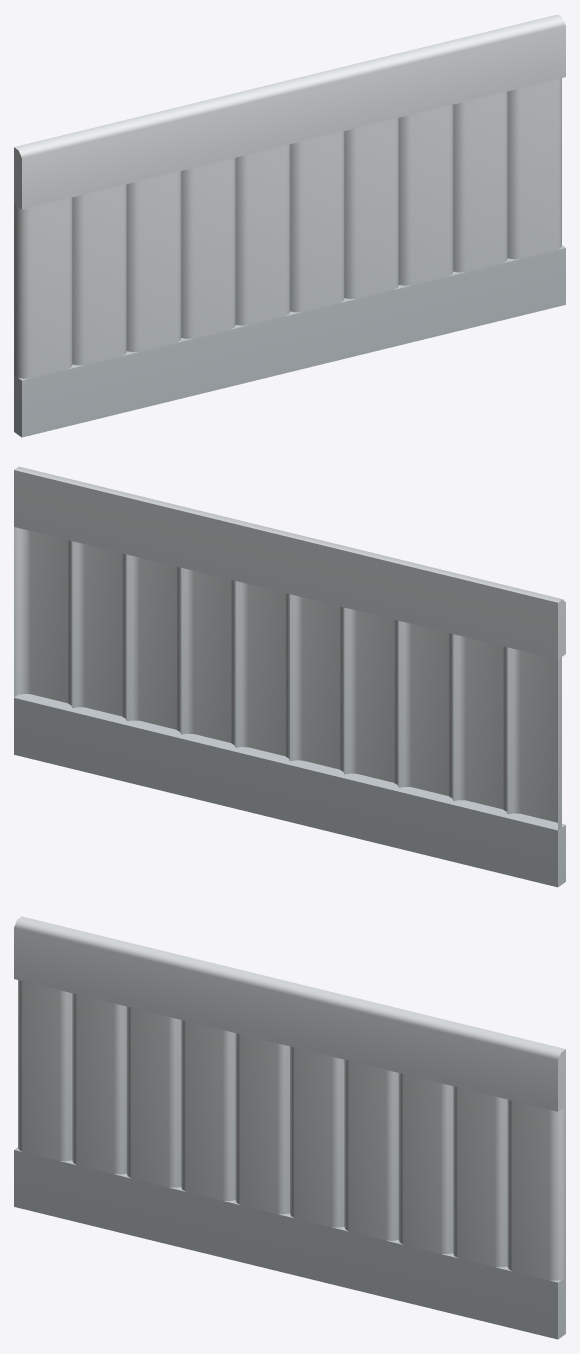
File: Panel_White_02.glb
The picture shows the model from 3 angles, top to bottom: view 1: azimuth 30°, elevation 25°; view 2: azimuth 150°, elevation 25°; view 3: azimuth 330°, elevation 25°; orthographic projection.
Parts seen in each view (by area): view 1: Panel_White_02; view 2: Panel_White_02; view 3: Panel_White_02.
Part boxes in pixels (x1,y1,x2,y2): Panel_White_02: (14,14,565,437); Panel_White_02: (14,466,565,887); Panel_White_02: (14,916,565,1339).
Bounding box in the file's own units: 2 × 1 × 0.05.
1 material, 1 textured.
